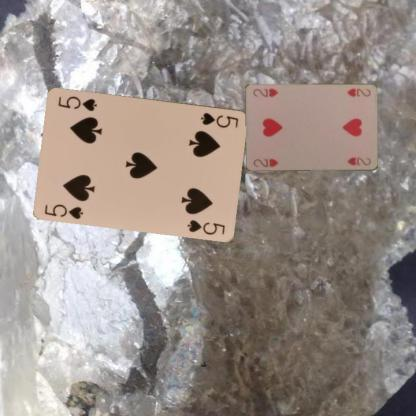2h: (250, 156, 280, 168), (345, 86, 372, 98)
5s: (198, 110, 240, 129), (43, 201, 84, 220)
